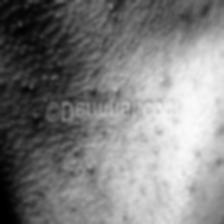Toxin: (157, 64, 175, 96), (210, 116, 224, 142)
